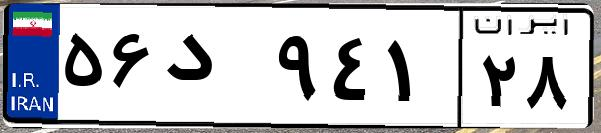1: (385, 28, 445, 110)
2: (475, 38, 525, 113)
4: (330, 28, 385, 110)
5: (57, 26, 110, 100)
6: (110, 28, 158, 98)
8: (525, 38, 570, 115)
9: (270, 28, 330, 110)
د: (158, 20, 270, 120)
